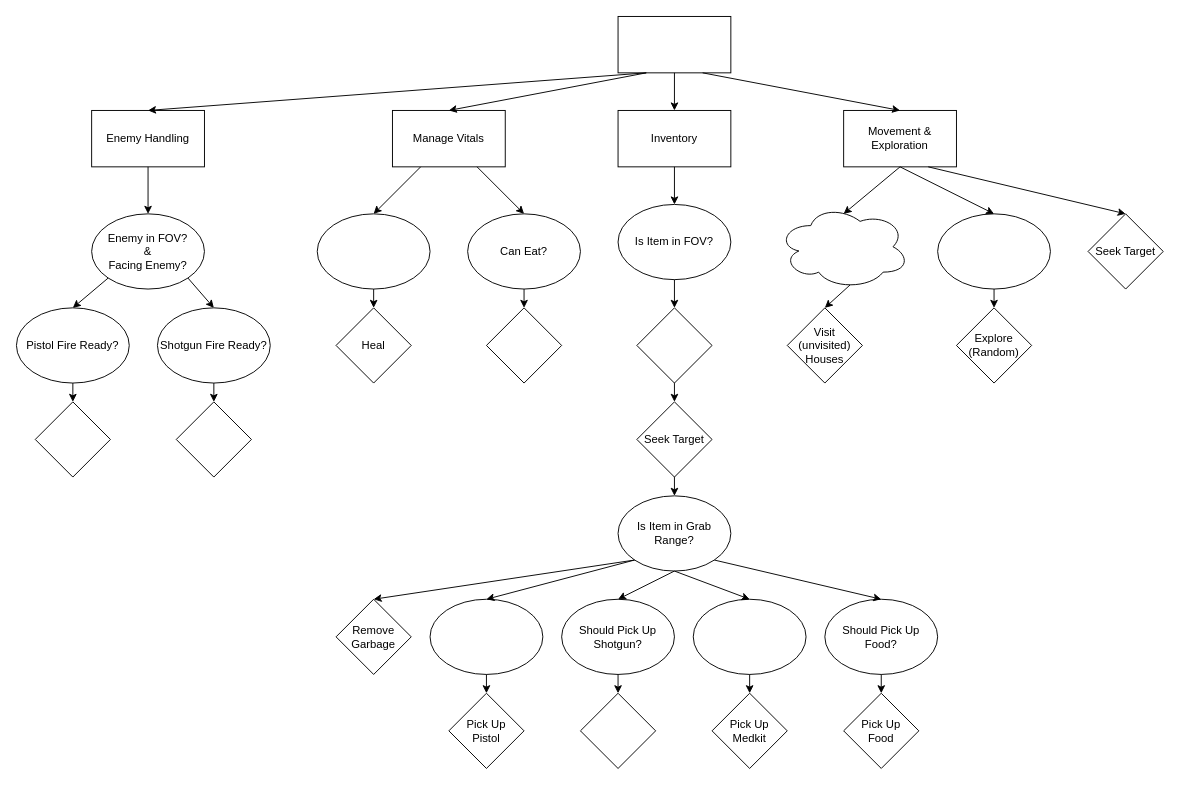
This 1180x785 diagram has some shape labels left out. Each missing label, with the centre of its shape:
Can Heal?: the point at 373,251
Eat: the point at 524,345
House visited within cooldown time?: the point at 843,246
Pick Up Shotgun: the point at 618,730
Reached Target?: the point at 993,251
ROOT: the point at 674,44
Set Target: the point at 674,345
Shoot Pistol: the point at 72,439
Shoot Shotgun: the point at 213,439
Should Pick Up Medkit?: the point at 749,636
Should Pick Up Pistol?: the point at 486,636
